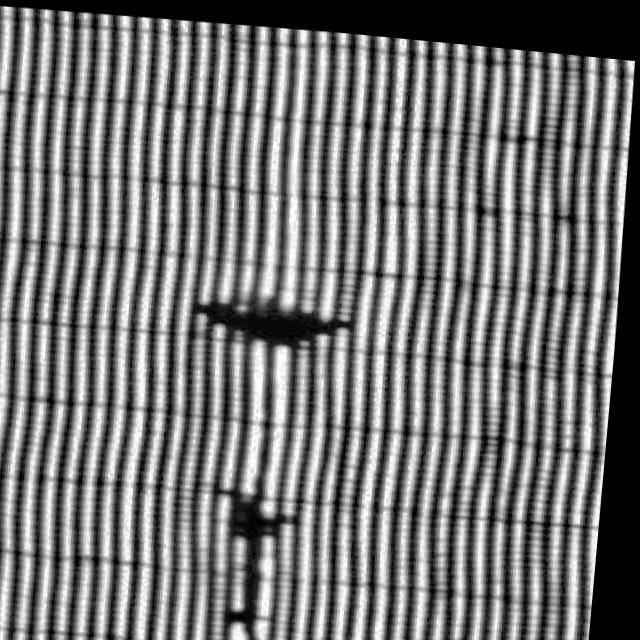Hole: (161, 255, 376, 387)
Stitch: (173, 456, 328, 640)
